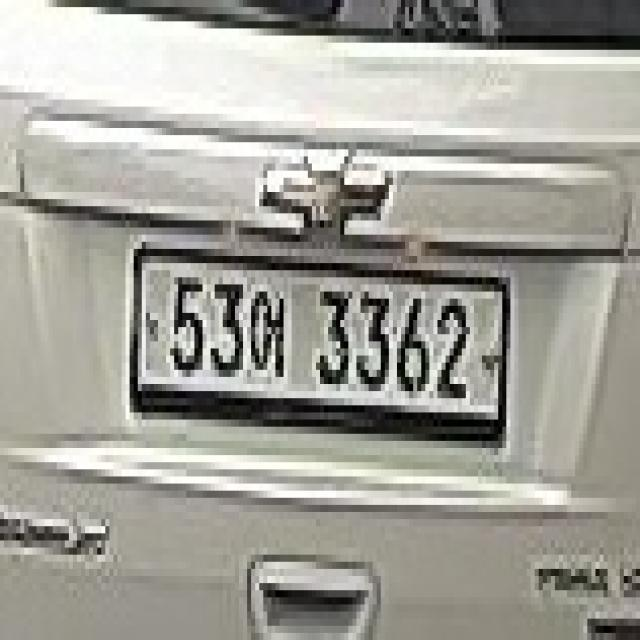2: (433, 277, 470, 391)
3: (203, 256, 251, 377), (308, 278, 352, 406), (352, 270, 389, 412)
5: (170, 263, 203, 377)
6: (397, 284, 429, 406)
eo: (243, 277, 296, 384)
license_plate: (122, 242, 510, 455)
